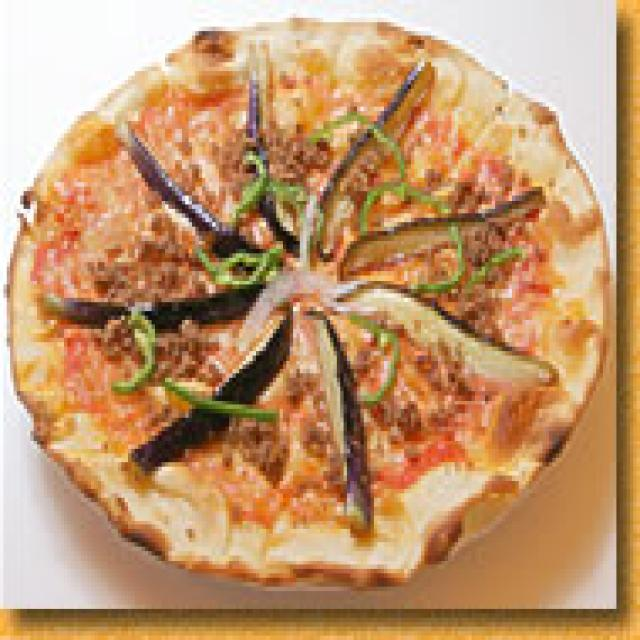汉堡快餐: (0, 0, 603, 587)
